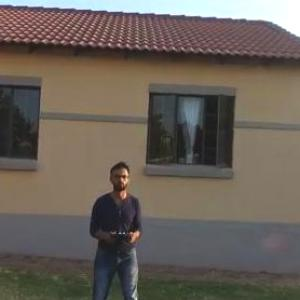follow: (81, 157, 147, 299)
